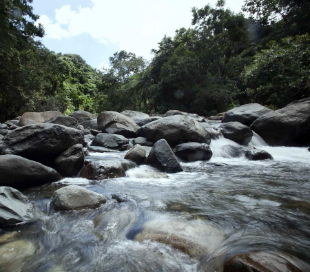stone: (1, 116, 90, 154), (137, 110, 216, 144), (48, 180, 109, 212), (1, 185, 42, 227), (95, 106, 144, 138), (223, 99, 283, 125), (150, 135, 184, 173), (241, 143, 285, 160)
